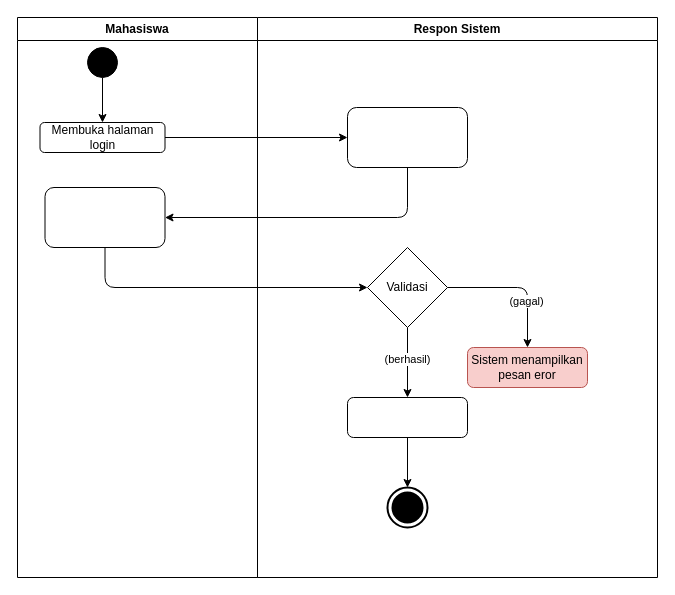
Image size: 675x595. Some labels were removed from this diagram. The shapes that lost their labels are listed below. From the top down, each one's centre as x and y in pixels, then its label:
the point at 407,137: Menampilkan formulir username dan password
the point at 104,217: Mengisi form dan username
the point at 407,417: Membuka halaman dashboard
